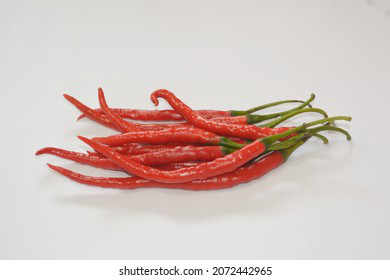Cabai: (78, 83, 285, 207)
